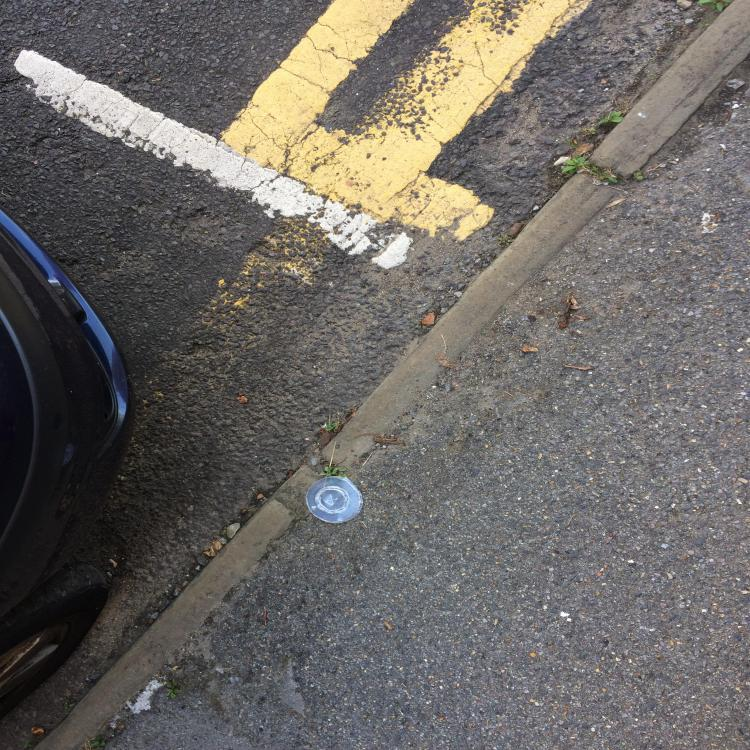Plastic lid: (306, 476, 363, 524)
